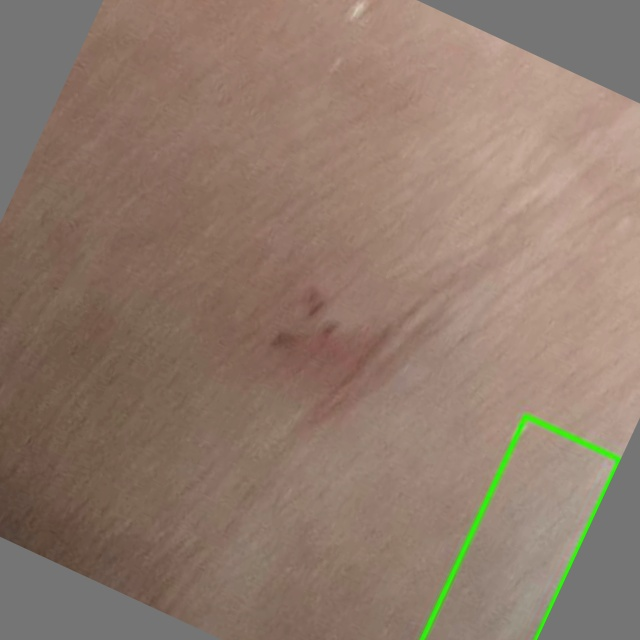Atopic Dermatitis: (422, 416, 619, 639)
